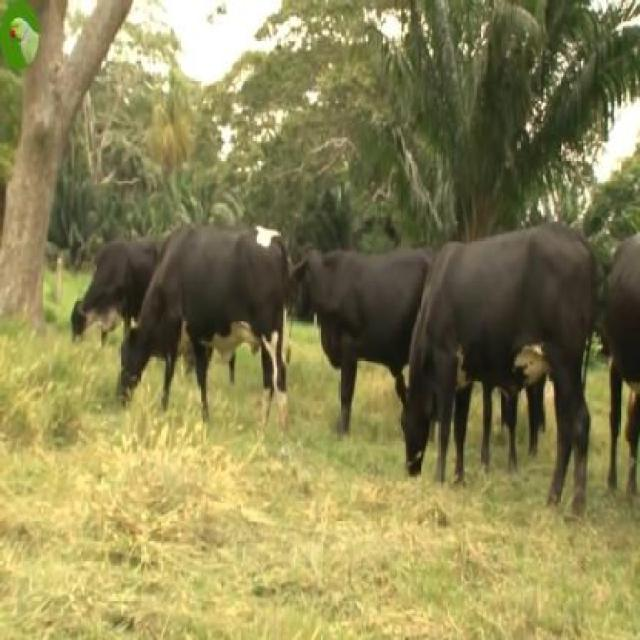Cow: (402, 231, 596, 511), (115, 228, 291, 443), (292, 245, 408, 440)
